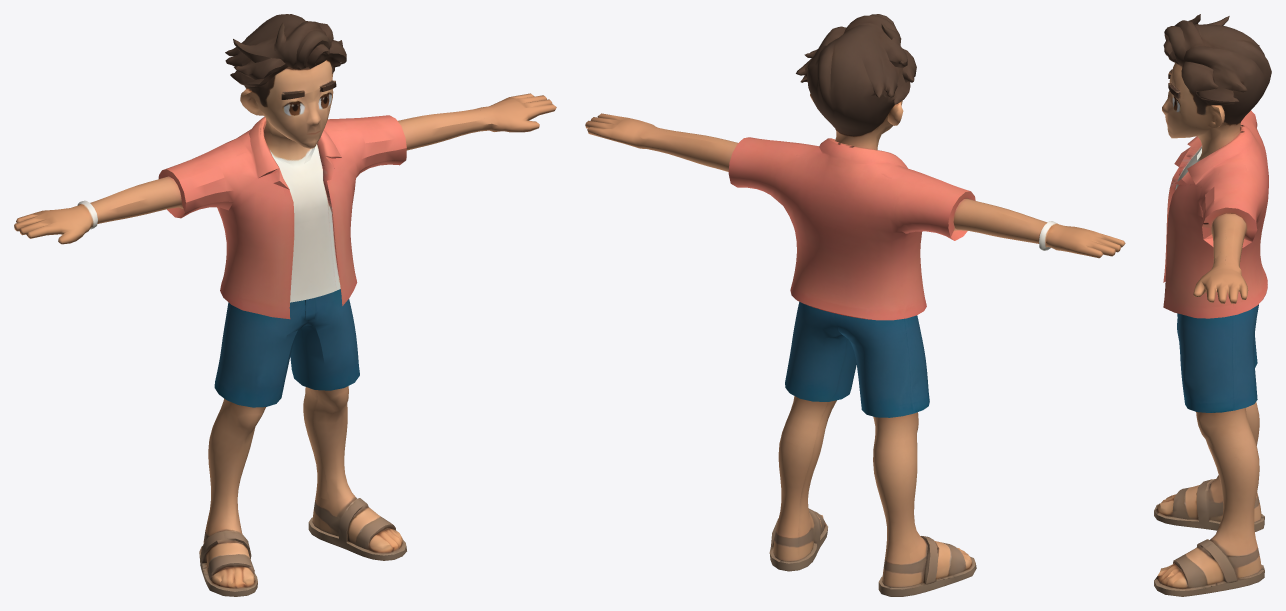
The model's file is male_epic.obj.
3 renders of one model, left to right at view 1: azimuth 30°, elevation 25°; view 2: azimuth 150°, elevation 25°; view 3: azimuth 270°, elevation 25°, orthographic. The views are drawn at different scales.
Visible parts, largest first — view 1: model; view 2: model; view 3: model.
Boxes of the visible parts, x1,y1,x2,y2 form: model: [14, 14, 556, 596]; model: [585, 14, 1125, 596]; model: [1154, 14, 1271, 596].
Bounding box in the file's own units: 1.75 × 1.71 × 0.3445.
Materials: 1 (1 with a texture image).
